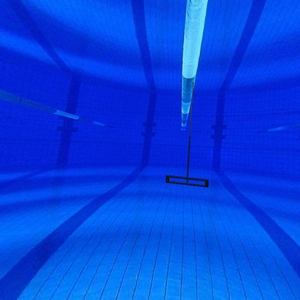circle: (165, 81, 210, 190)
